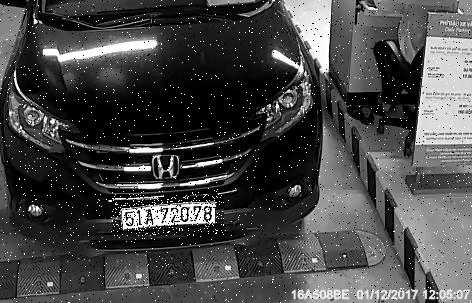License-plate: (113, 196, 225, 238)
